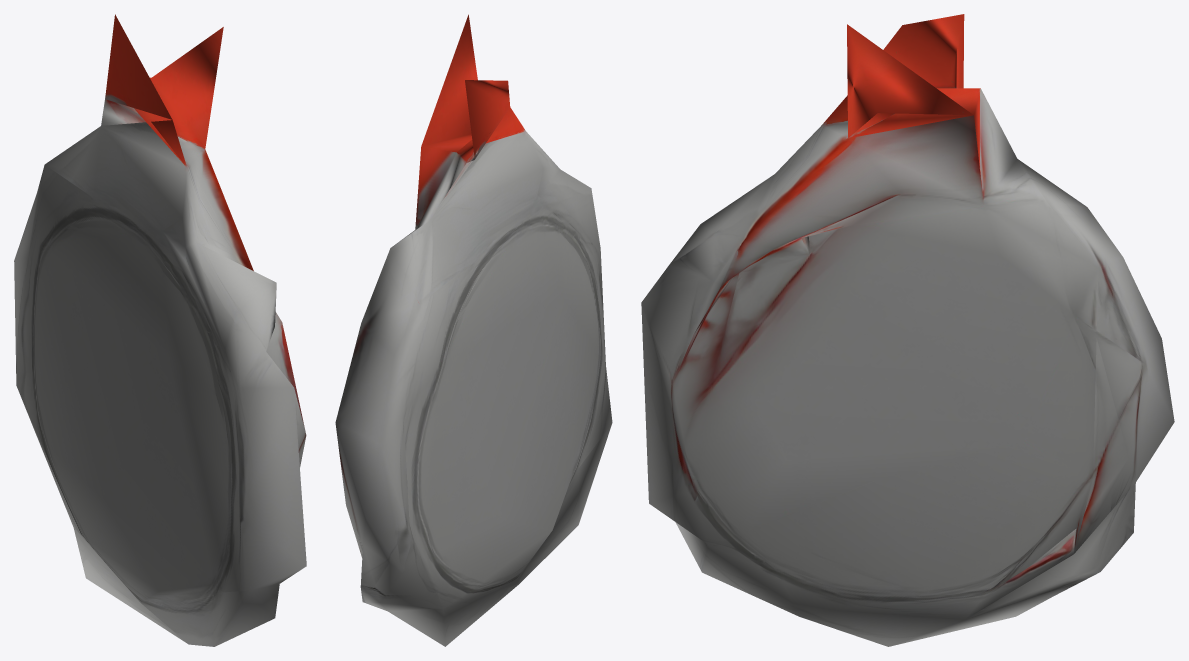
File: gym_medal.glb
The picture shows the model from 3 angles, left to right: view 1: azimuth 30°, elevation 25°; view 2: azimuth 150°, elevation 25°; view 3: azimuth 270°, elevation 25°; orthographic projection. The views are drawn at different scales.
Parts seen in each view (by area): view 1: tripo_node_759612d6-aac6-485a-b42e-01d71396c7bf; view 2: tripo_node_759612d6-aac6-485a-b42e-01d71396c7bf; view 3: tripo_node_759612d6-aac6-485a-b42e-01d71396c7bf.
Part boxes in pixels (x1,y1,x2,y2): tripo_node_759612d6-aac6-485a-b42e-01d71396c7bf: [14, 14, 306, 646]; tripo_node_759612d6-aac6-485a-b42e-01d71396c7bf: [335, 14, 612, 646]; tripo_node_759612d6-aac6-485a-b42e-01d71396c7bf: [641, 14, 1174, 646].
Size of the model in its own units: 0.1497 by 1 by 0.7608.
1 material, 1 textured.
